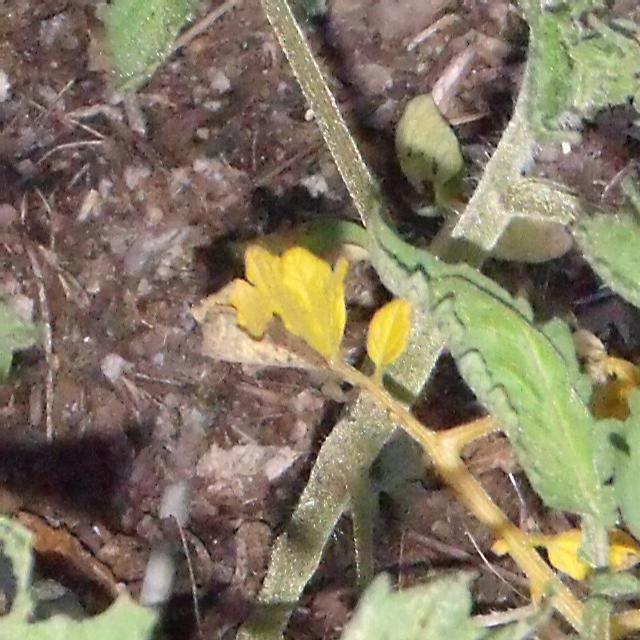Tomato leaf bacterial spot: (407, 217, 640, 605)
